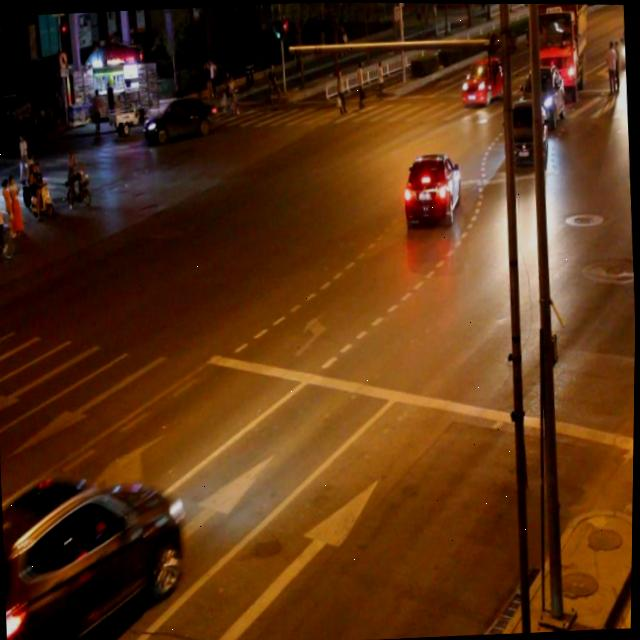car: (3, 469, 192, 640), (399, 147, 463, 226), (503, 97, 547, 167)
